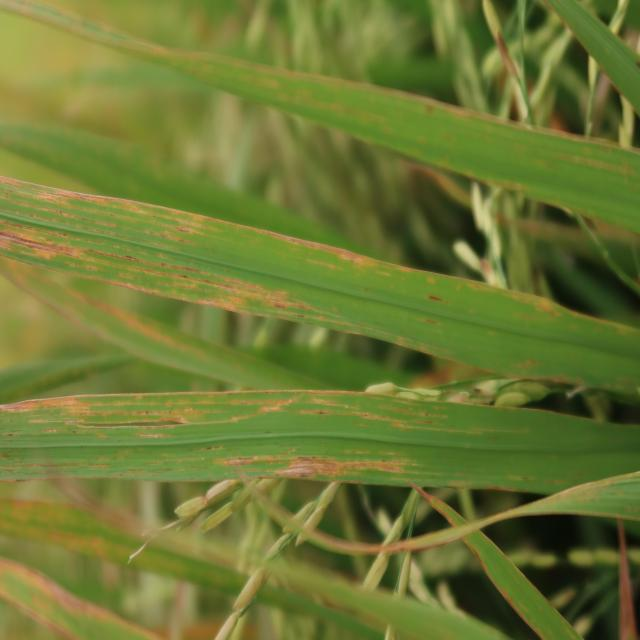Dom soc vi khuan: (0, 176, 435, 355), (0, 390, 273, 426), (256, 229, 420, 280), (271, 390, 452, 432), (214, 450, 434, 484), (462, 277, 564, 320)
